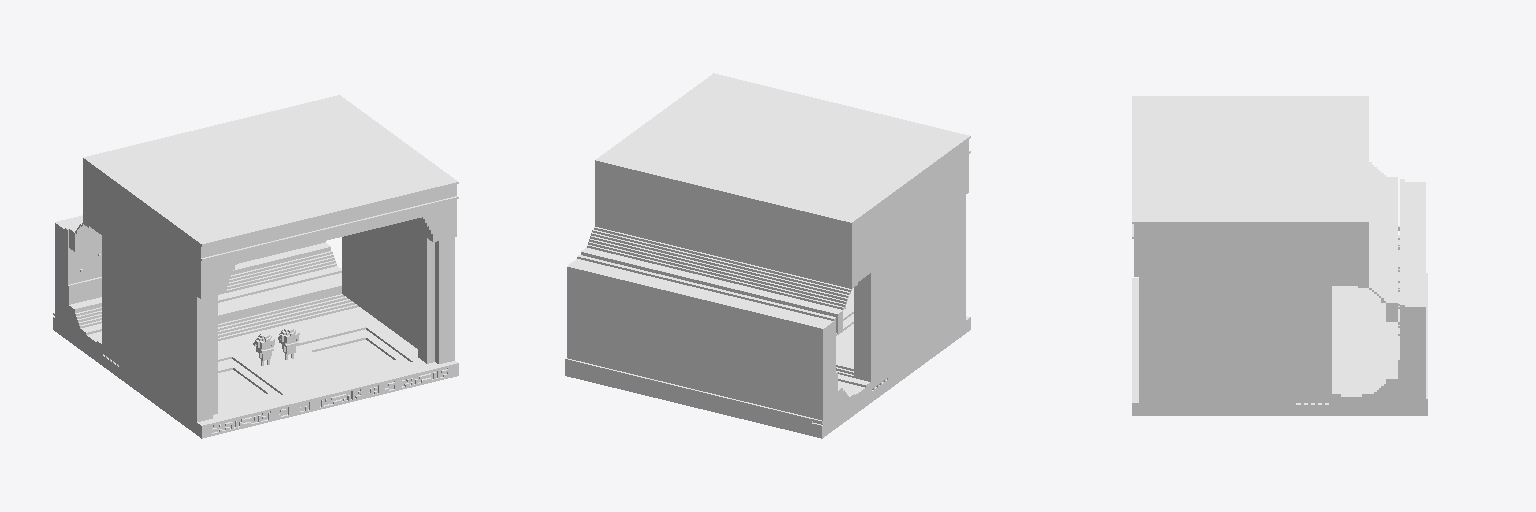
File: space-base-interior.obj
3 renders of one model, left to right at view 1: azimuth 30°, elevation 25°; view 2: azimuth 150°, elevation 25°; view 3: azimuth 270°, elevation 25°, orthographic.
Parts seen in each view (by area): view 1: space-base-interior; view 2: space-base-interior; view 3: space-base-interior.
Boxes of the visible parts, x1,y1,x2,y2 form: space-base-interior: [53, 95, 458, 438]; space-base-interior: [565, 73, 970, 438]; space-base-interior: [1132, 96, 1427, 415].
Bounding box in the file's own units: 126 × 91 × 126.